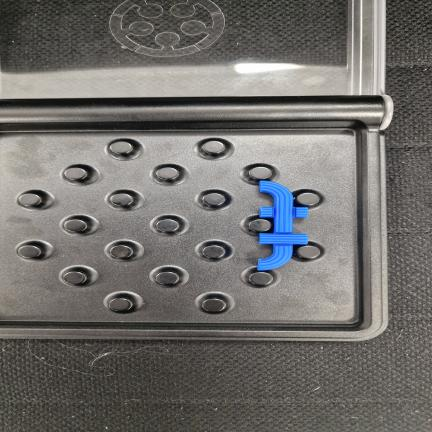C_DarkBlue: (258, 181, 308, 271)
board: (0, 96, 388, 341)
hinge: (0, 97, 390, 128)
pin: (201, 298, 226, 313), (109, 297, 133, 312), (296, 245, 321, 259), (110, 141, 134, 155), (202, 140, 226, 154), (64, 167, 88, 181), (110, 193, 134, 207), (202, 193, 226, 207), (296, 192, 320, 206), (156, 218, 180, 232), (202, 245, 226, 259), (249, 272, 273, 286), (155, 271, 179, 285), (63, 271, 87, 285), (248, 166, 273, 179), (63, 219, 87, 232), (109, 245, 133, 258), (156, 167, 179, 180), (248, 219, 271, 232), (18, 245, 41, 258), (19, 193, 41, 206)
